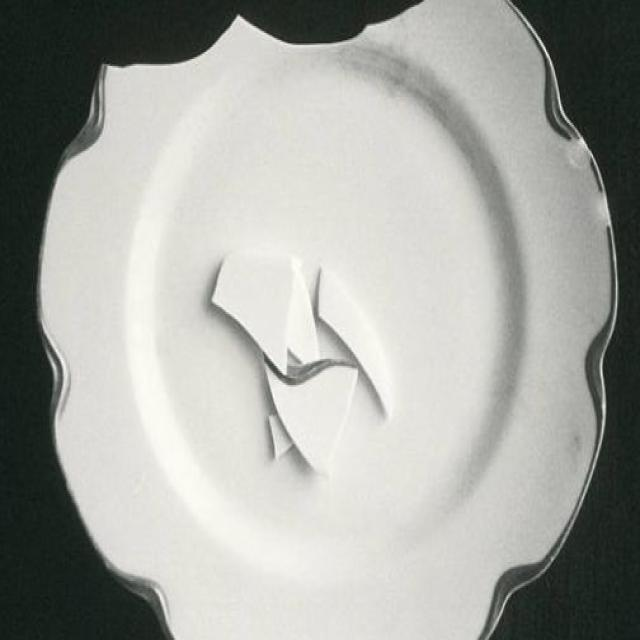electronic: (36, 0, 619, 640)
